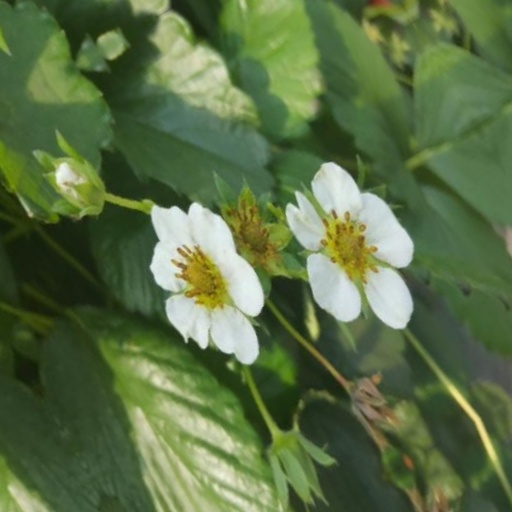Blossom Blight: (140, 254, 202, 341), (291, 206, 339, 285), (225, 201, 268, 268)
